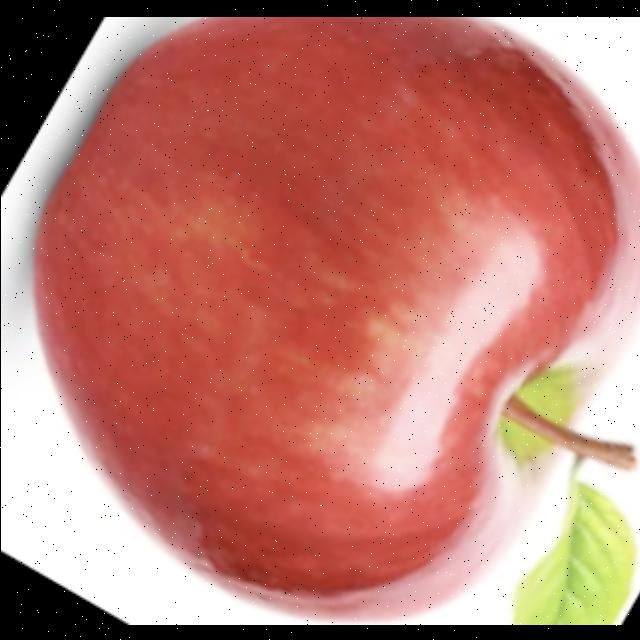Apel Segar: (24, 16, 640, 624)
